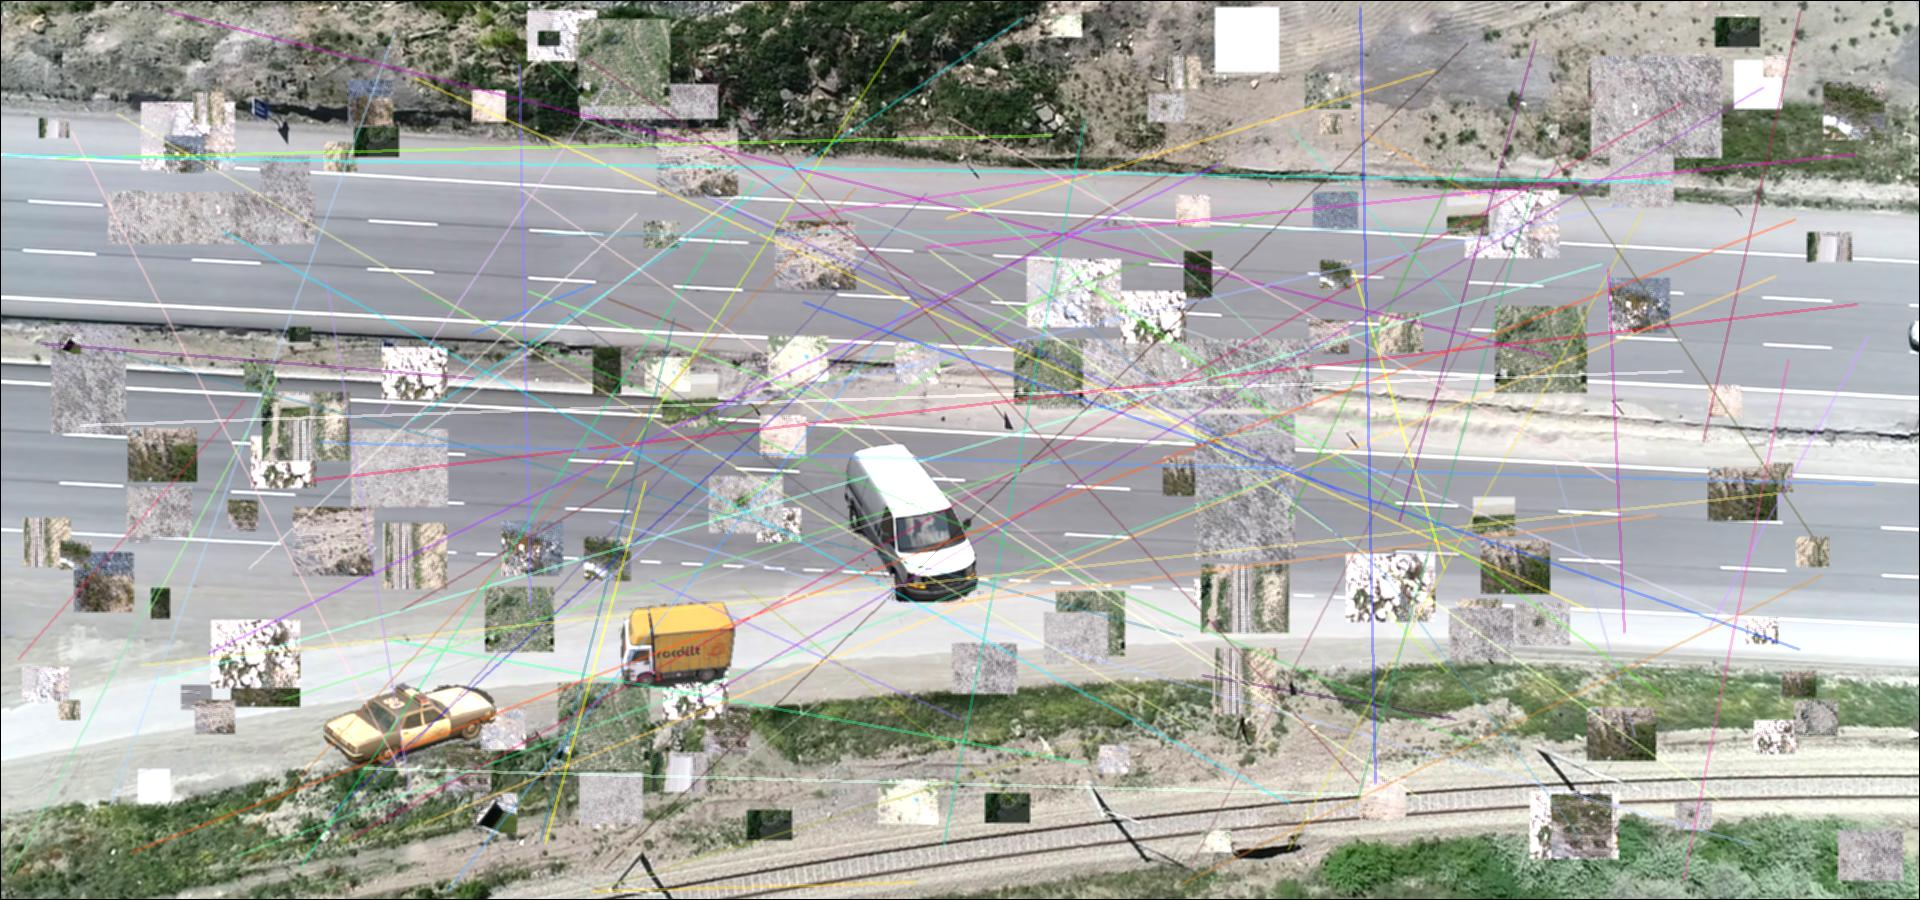arac: (836, 442, 984, 602), (324, 677, 504, 765), (616, 602, 735, 687)
